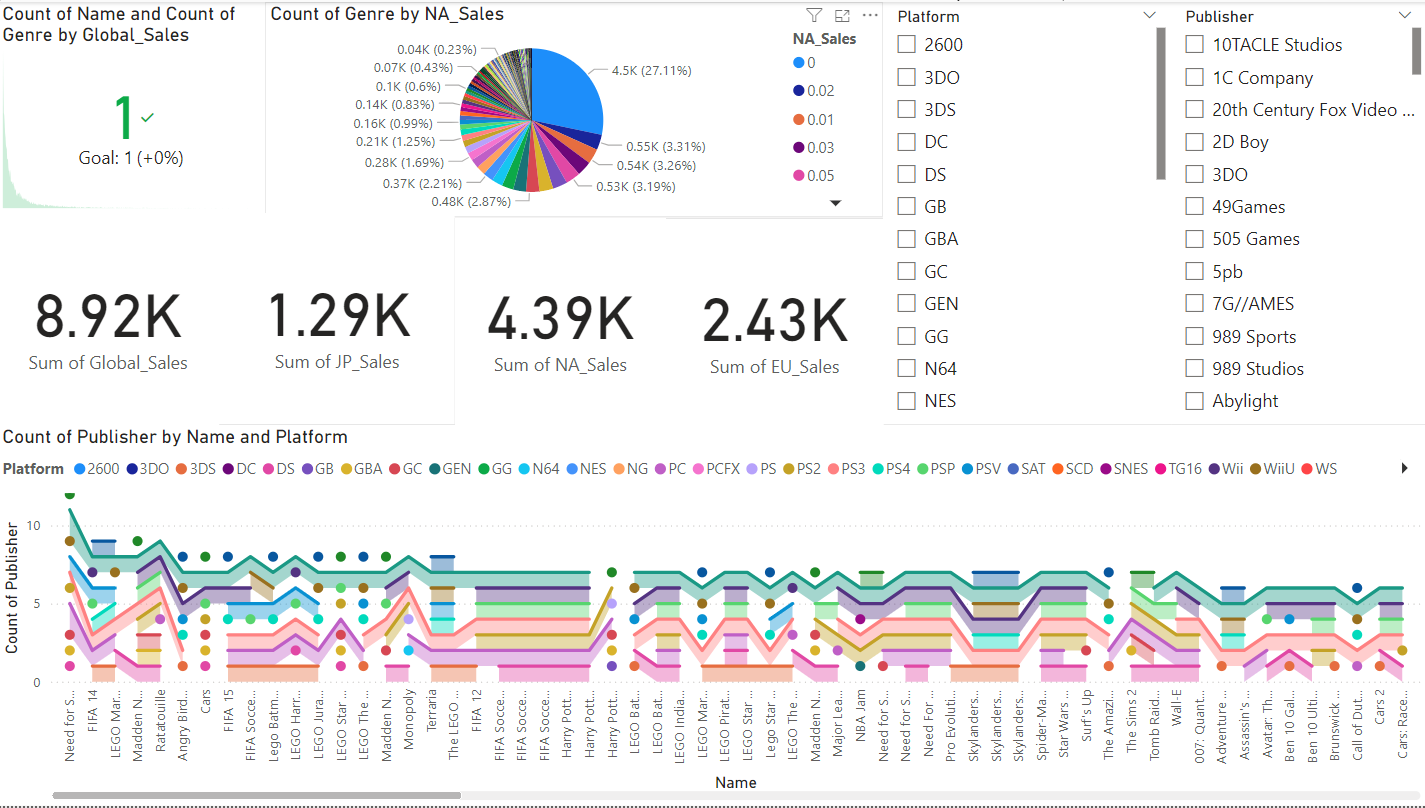

The dashboard page shown, as its layout file describes it:
{"tool":"powerbi","page":{"name":"Page 1","canvas":[1280,720],"ordinal":0},"visuals":[{"type":"kpi","fields":{"Indicator":["CountNonNull(vgsales.Name)"],"TrendLine":["vgsales.Global_Sales"],"Goal":["CountNonNull(vgsales.Genre)"]},"box":[0,0,240.2,189.7],"z":0},{"type":"stackedAreaChart","fields":{"Y":["CountNonNull(vgsales.Publisher)"],"Series":["vgsales.Platform"],"Category":["vgsales.Name"]},"box":[0,378.8,1279.7,341.2],"z":1000},{"type":"pieChart","fields":{"Category":["vgsales.NA_Sales"],"Y":["CountNonNull(vgsales.Genre)"]},"box":[240.2,0,553.4,192.6],"z":2000},{"type":"slicer","fields":{"Values":["vgsales.Publisher"]},"box":[1051.4,0,228.6,378.4],"z":3000},{"type":"slicer","fields":{"Values":["vgsales.Platform"]},"box":[793.4,0,265.1,378.8],"z":4000},{"type":"card","fields":{"Values":["Sum(vgsales.Global_Sales)"]},"box":[0,189.9,198.8,189],"z":5000},{"type":"card","fields":{"Values":["Sum(vgsales.JP_Sales)"]},"box":[198.8,189,211.3,189],"z":6000},{"type":"card","fields":{"Values":["Sum(vgsales.NA_Sales)"]},"box":[410.5,193.6,188.7,185.8],"z":7000},{"type":"card","fields":{"Values":["Sum(vgsales.EU_Sales)"]},"box":[599.1,194.5,194.5,186.7],"z":8000},{"type":"image","box":[210.4,123.6,58.2,58.2],"z":8001}]}

Visuals, with their boxes in screenshot pixels (x1, y1, x2, y2), scaled from the page's 1280x720 canvas onto the 1425x808 screenshot:
kpi - CountNonNull(vgsales.Name) x vgsales.Global_Sales: 0, 0, 267, 213
stackedAreaChart - CountNonNull(vgsales.Publisher) x vgsales.Platform: 0, 425, 1424, 807
pieChart - vgsales.NA_Sales x CountNonNull(vgsales.Genre): 267, 0, 883, 216
slicer - vgsales.Publisher: 1171, 0, 1424, 425
slicer - vgsales.Platform: 883, 0, 1178, 425
card - Sum(vgsales.Global_Sales): 0, 213, 221, 425
card - Sum(vgsales.JP_Sales): 221, 212, 457, 424
card - Sum(vgsales.NA_Sales): 457, 217, 667, 426
card - Sum(vgsales.EU_Sales): 667, 218, 884, 428
image: 234, 139, 299, 204
